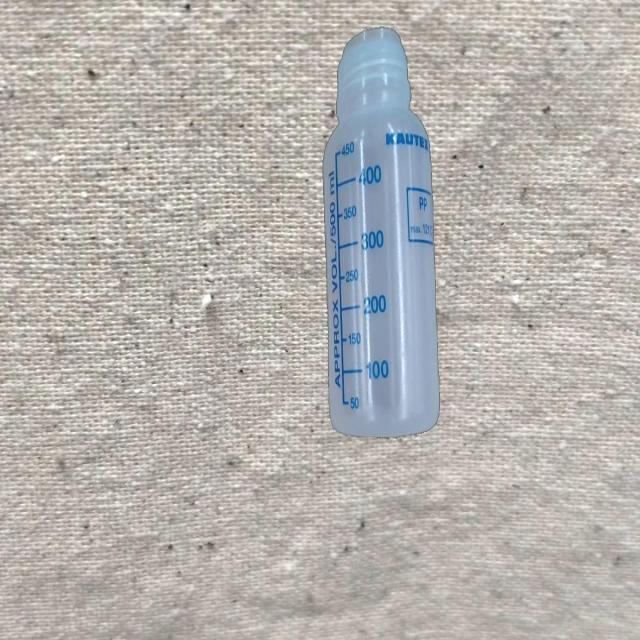bottle: (322, 26, 441, 441)
